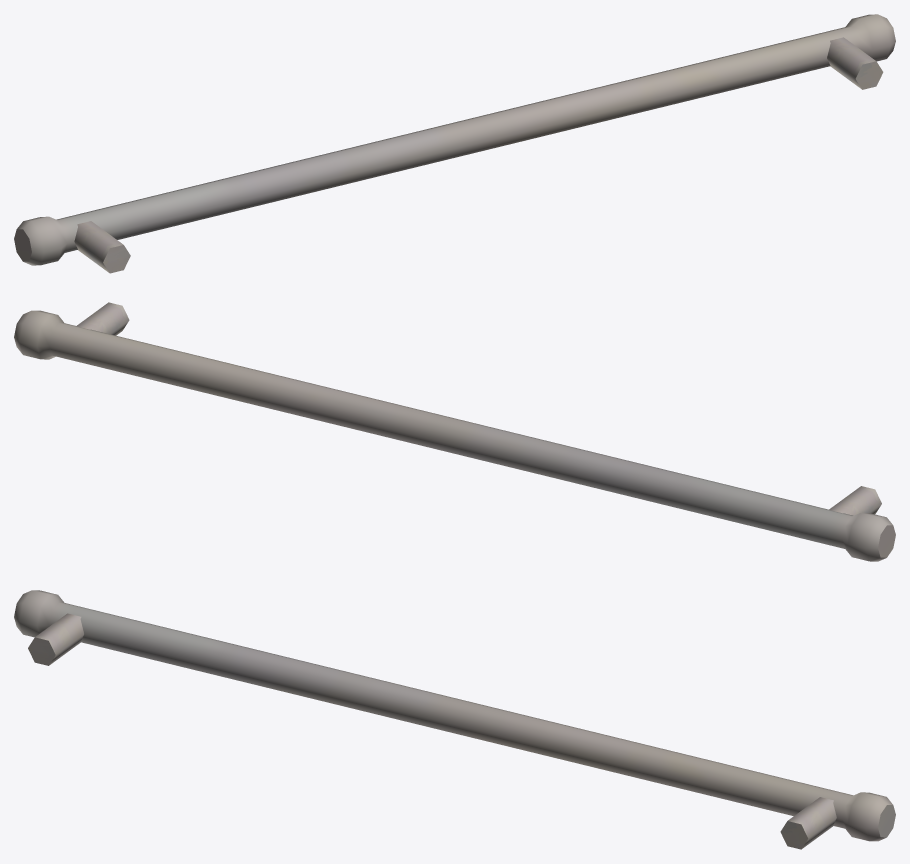
File: Pfb_Indoors_WC__3.fbx
3 views of the same model, one above another, from view 1: azimuth 30°, elevation 25°; view 2: azimuth 150°, elevation 25°; view 3: azimuth 330°, elevation 25° (orthographic).
Parts seen in each view (by area): view 1: Mat_Tile_Color_07 1; view 2: Mat_Tile_Color_07 1; view 3: Mat_Tile_Color_07 1.
Part boxes in pixels (box(x1,y1,x2,y2)): Mat_Tile_Color_07 1: box(14, 14, 895, 273); Mat_Tile_Color_07 1: box(14, 302, 895, 561); Mat_Tile_Color_07 1: box(14, 590, 895, 849).
Size of the model in its own units: 2.91 by 0.1439 by 0.2908.
1 material, 1 textured.
